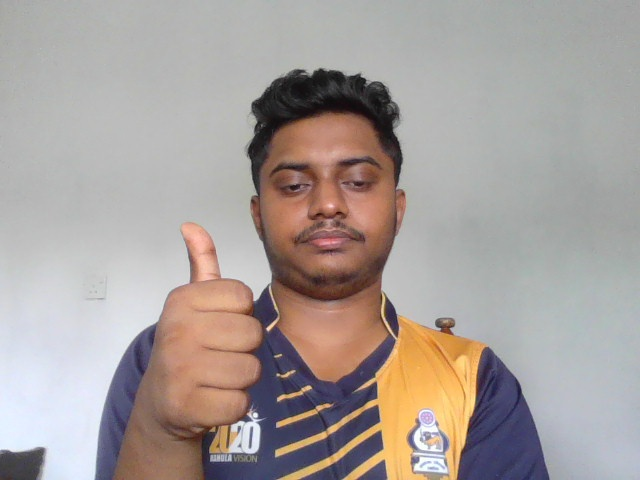Agree: (140, 221, 263, 442)
